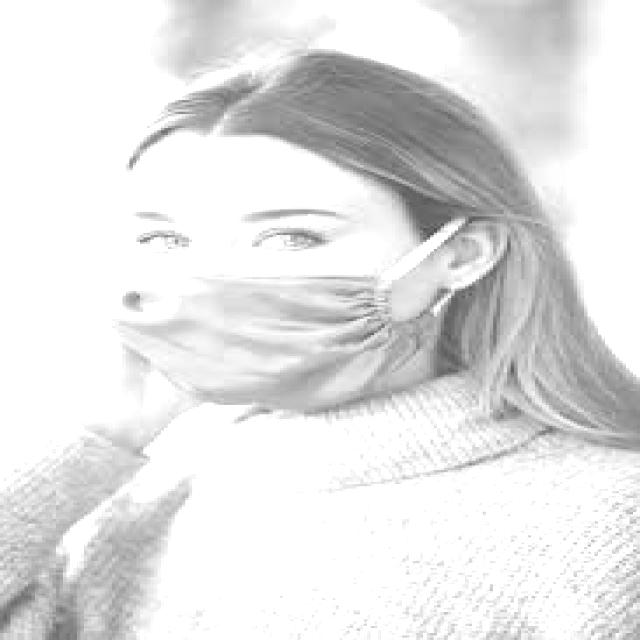fake: (111, 268, 441, 417)
real: (125, 134, 430, 415)
